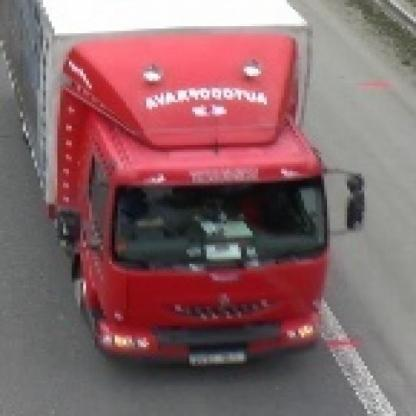truck: (1, 1, 360, 372)
